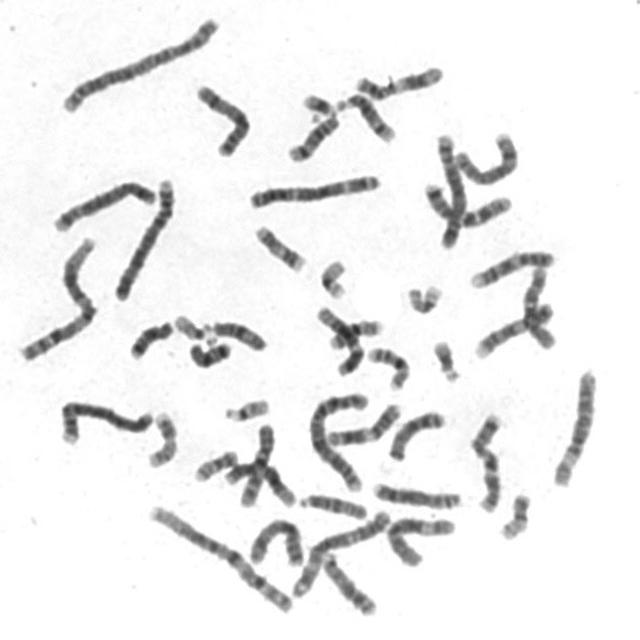A1: (141, 497, 300, 616), (14, 228, 103, 364)
A2: (56, 9, 226, 115), (304, 384, 373, 494)
A3: (286, 503, 395, 600), (244, 165, 386, 211)
B4: (109, 171, 180, 303), (54, 393, 158, 446)
B5: (49, 173, 162, 235), (430, 126, 469, 250)
C10: (234, 416, 280, 509), (518, 257, 561, 351)
C11: (351, 56, 448, 102), (323, 395, 406, 448)
C12: (311, 298, 367, 377), (221, 454, 300, 508)
C6: (547, 361, 603, 488), (382, 508, 461, 569)
C7: (419, 175, 517, 230), (466, 405, 509, 515)
C8: (449, 123, 524, 187), (368, 474, 467, 510)
C9: (470, 295, 561, 360), (466, 242, 560, 291)
D13: (317, 545, 382, 618), (383, 402, 451, 463)
D14: (332, 86, 401, 144), (283, 107, 345, 164)
D15: (200, 312, 272, 353), (295, 486, 372, 521)
E16: (363, 339, 415, 392), (325, 312, 388, 350)
E17: (250, 217, 311, 274), (143, 403, 183, 470)
E18: (125, 312, 178, 361), (184, 333, 236, 369)
F19: (315, 251, 352, 300), (402, 277, 448, 315)
F20: (495, 485, 536, 541), (190, 443, 243, 483)
G21: (428, 332, 466, 384), (296, 84, 341, 120)
G22: (219, 389, 275, 424), (170, 306, 218, 343)
X: (191, 76, 256, 159), (243, 511, 309, 569)
